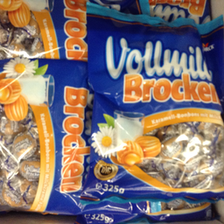candy: (89, 21, 224, 198), (1, 60, 88, 211)
